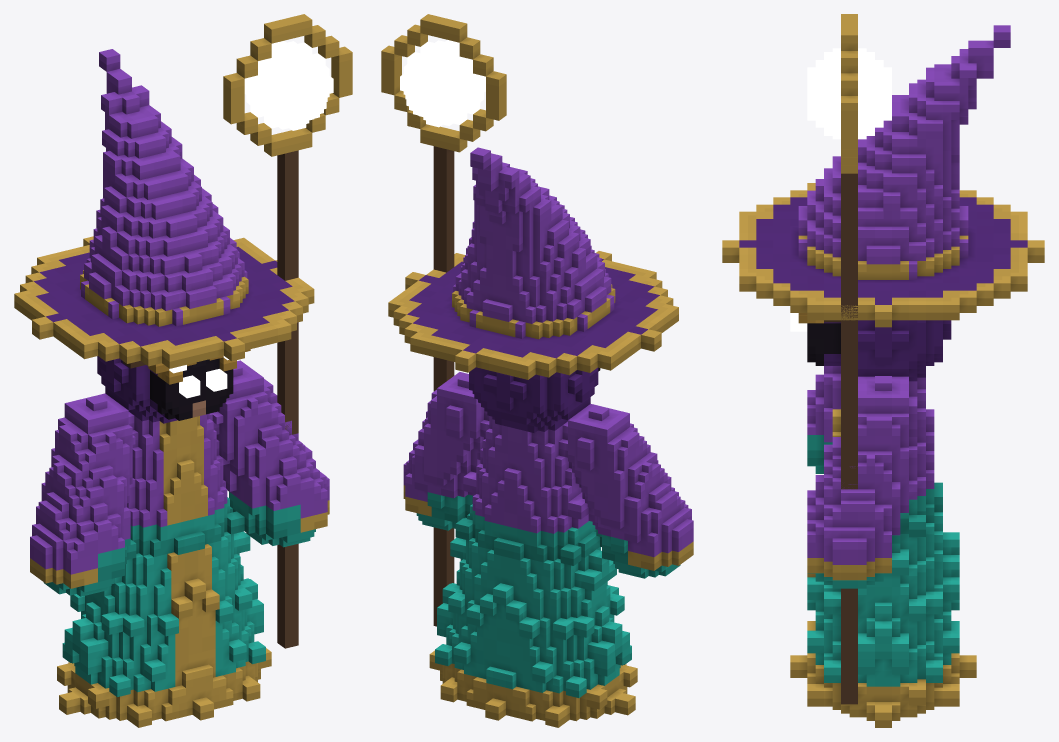
The model's file is u_oracle__artificier.glb.
3 renders of one model, left to right at view 1: azimuth 30°, elevation 25°; view 2: azimuth 150°, elevation 25°; view 3: azimuth 270°, elevation 25°, orthographic. The views are drawn at different scales.
Visible parts, largest first — view 1: oracle_body, oracle_weapon, oracle_weaponglow, oracle_glow; view 2: oracle_body, oracle_weapon, oracle_weaponglow; view 3: oracle_body, oracle_weapon, oracle_weaponglow.
Part boxes in pixels (x1=…): oracle_body: x1=14, y1=49, x2=329, y2=727; oracle_weapon: x1=223, y1=14, x2=352, y2=648; oracle_weaponglow: x1=244, y1=41, x2=333, y2=130; oracle_glow: x1=169, y1=356, x2=228, y2=398; oracle_body: x1=388, y1=147, x2=693, y2=727; oracle_weapon: x1=381, y1=14, x2=506, y2=626; oracle_weaponglow: x1=400, y1=40, x2=485, y2=127; oracle_body: x1=722, y1=25, x2=1044, y2=727; oracle_weapon: x1=841, y1=14, x2=857, y2=704; oracle_weaponglow: x1=807, y1=48, x2=891, y2=139.
Size of the model in its own units: 1.15 by 2.3 by 0.95.
